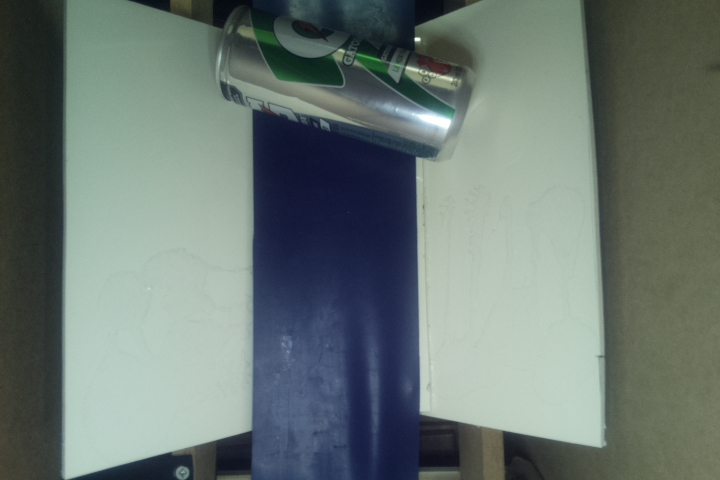can: (216, 1, 477, 163)
